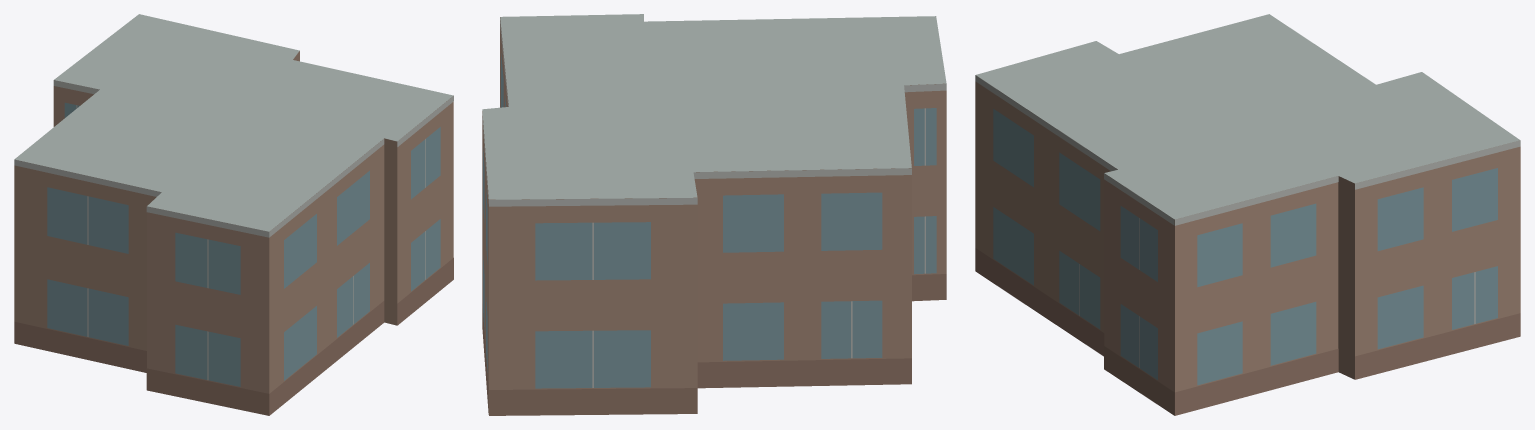
The model's file is survey-upis-33014930.glb.
3 renders of one model, left to right at view 1: azimuth 30°, elevation 25°; view 2: azimuth 150°, elevation 25°; view 3: azimuth 270°, elevation 25°, orthographic. The views are drawn at different scales.
Parts seen in each view (by area): view 1: survey-upis-33014930.tmp; view 2: survey-upis-33014930.tmp; view 3: survey-upis-33014930.tmp.
Boxes of the visible parts, <box> form: survey-upis-33014930.tmp: <box>14,14,453,415</box>; survey-upis-33014930.tmp: <box>482,14,946,415</box>; survey-upis-33014930.tmp: <box>975,14,1520,415</box>.
Bounding box in the file's own units: 17.08 × 7.6 × 19.13.
